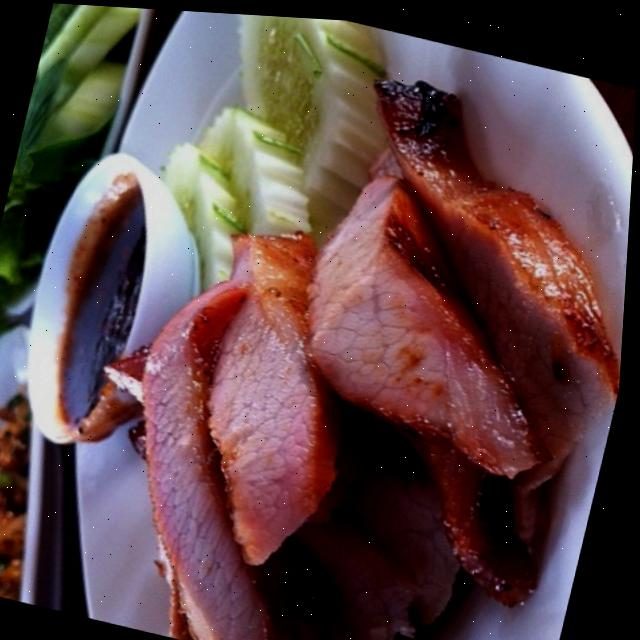猪肉菜式: (54, 4, 640, 640)
